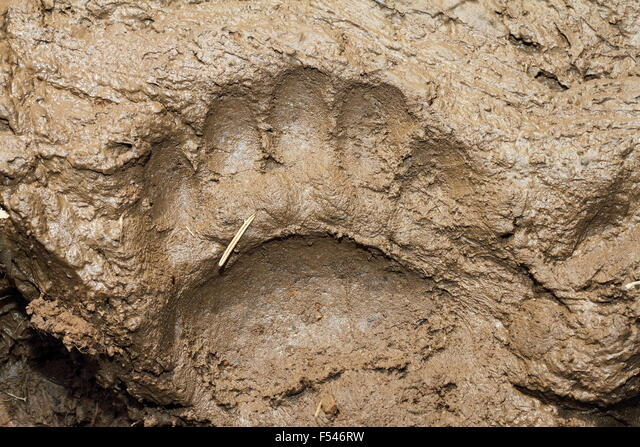bear: (56, 26, 557, 426)
